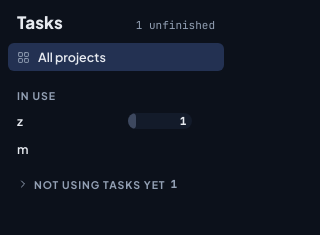
Scenario: TasksTree › 分兩組：有話要說的在使用中，absent 且沒下一步的在未開待辦；順序照 payload
Click the button with class "is-toggle" at (116, 180), box [8,163,224,196]
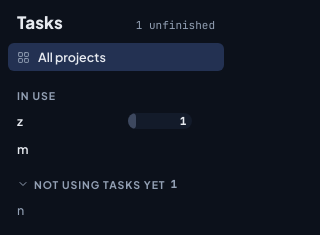
Result: the text with class "tree-name" reads "n" at [17,202,24,218]
